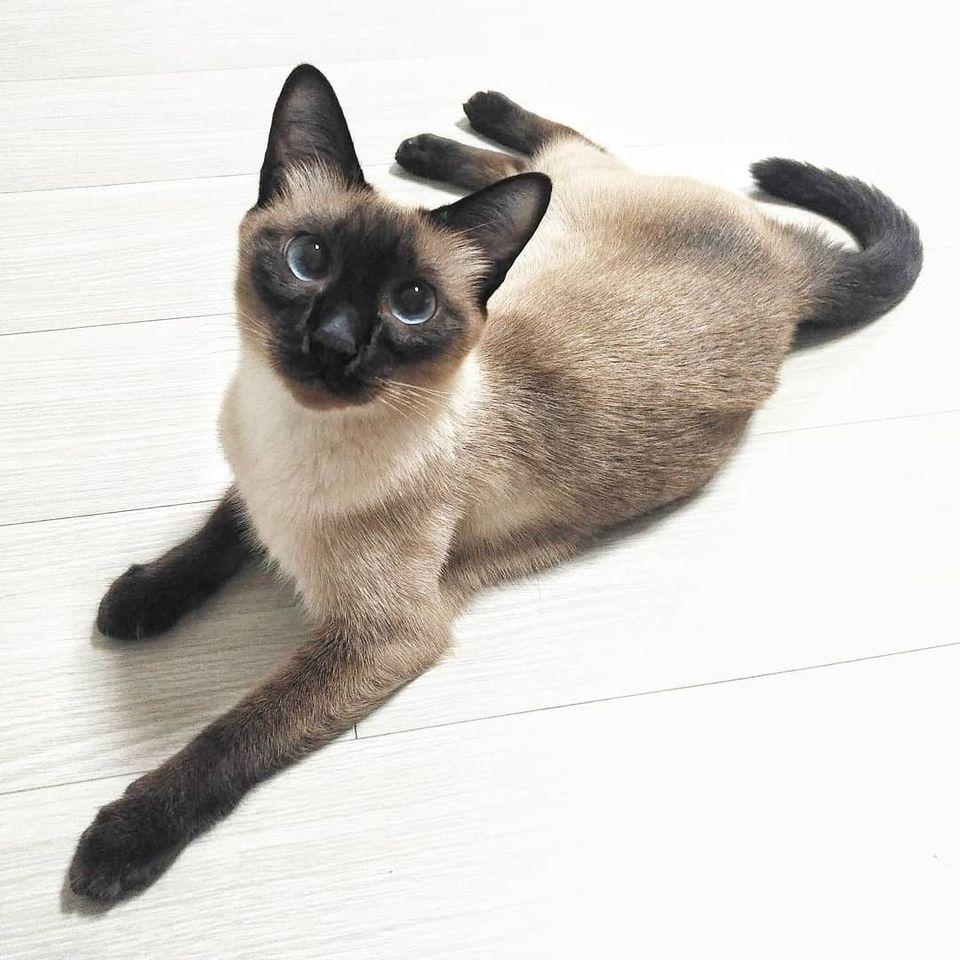siamese: (222, 60, 564, 422)
